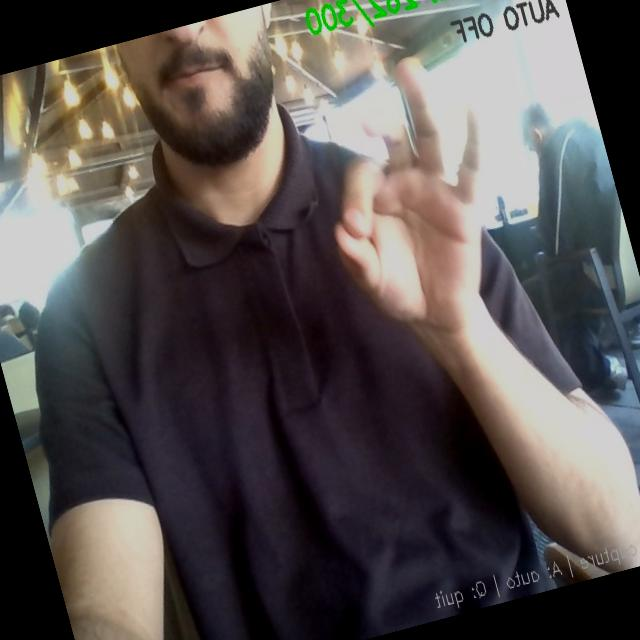Hand: (335, 59, 481, 333)
